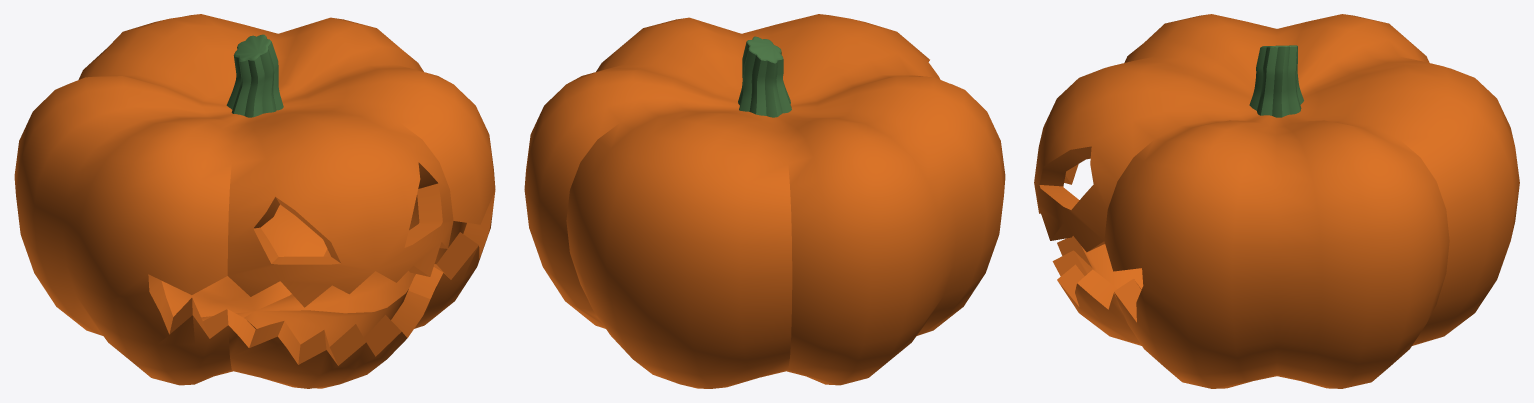
The model's file is Pumpkin.fbx.
The picture shows the model from 3 angles, left to right: view 1: azimuth 30°, elevation 25°; view 2: azimuth 150°, elevation 25°; view 3: azimuth 270°, elevation 25°; orthographic projection.
Visible parts, largest first — view 1: Pumpkin, Stalk; view 2: Pumpkin, Stalk; view 3: Pumpkin, Stalk.
Boxes of the visible parts, <box> form: Pumpkin: <box>14,14,495,388</box>; Stalk: <box>226,34,283,117</box>; Pumpkin: <box>524,14,1005,388</box>; Stalk: <box>738,36,791,117</box>; Pumpkin: <box>1034,14,1519,388</box>; Stalk: <box>1249,45,1303,117</box>.
Bounding box in the file's own units: 191 × 139 × 200.
